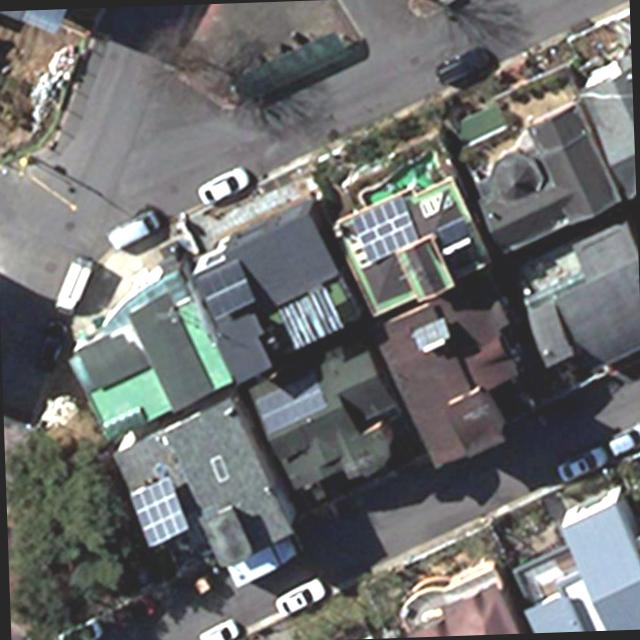solar: (126, 476, 189, 551), (187, 258, 257, 324), (355, 193, 422, 260)
